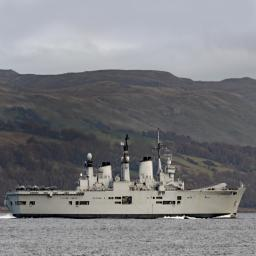Portanaves: (4, 125, 249, 222)
